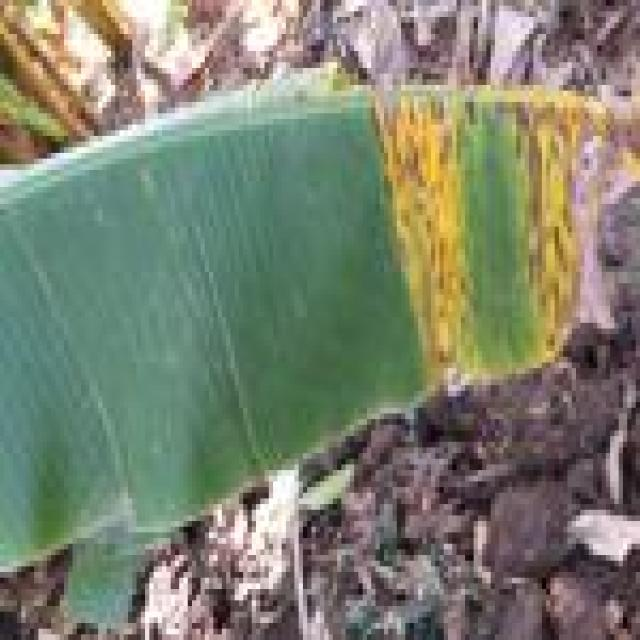Early_rust: (330, 43, 640, 409)
